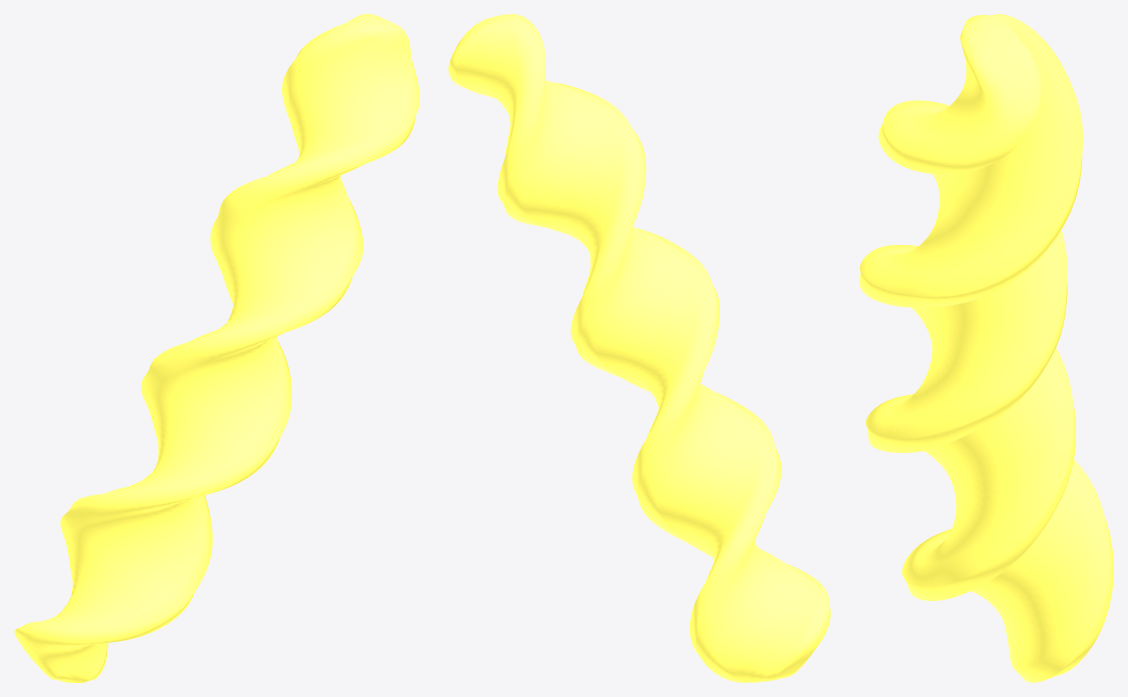
The model's file is Fusili.004.gltf.
3 views of the same model, side by side, from view 1: azimuth 30°, elevation 25°; view 2: azimuth 150°, elevation 25°; view 3: azimuth 270°, elevation 25° (orthographic). The views are drawn at different scales.
Visible parts, largest first — view 1: Fusili.004; view 2: Fusili.004; view 3: Fusili.004.
Boxes of the visible parts, x1,y1,x2,y2 form: Fusili.004: (14, 14, 419, 682); Fusili.004: (448, 14, 830, 682); Fusili.004: (859, 14, 1113, 682).
Bounding box in the file's own units: 1.92 × 2.9 × 0.8073.
